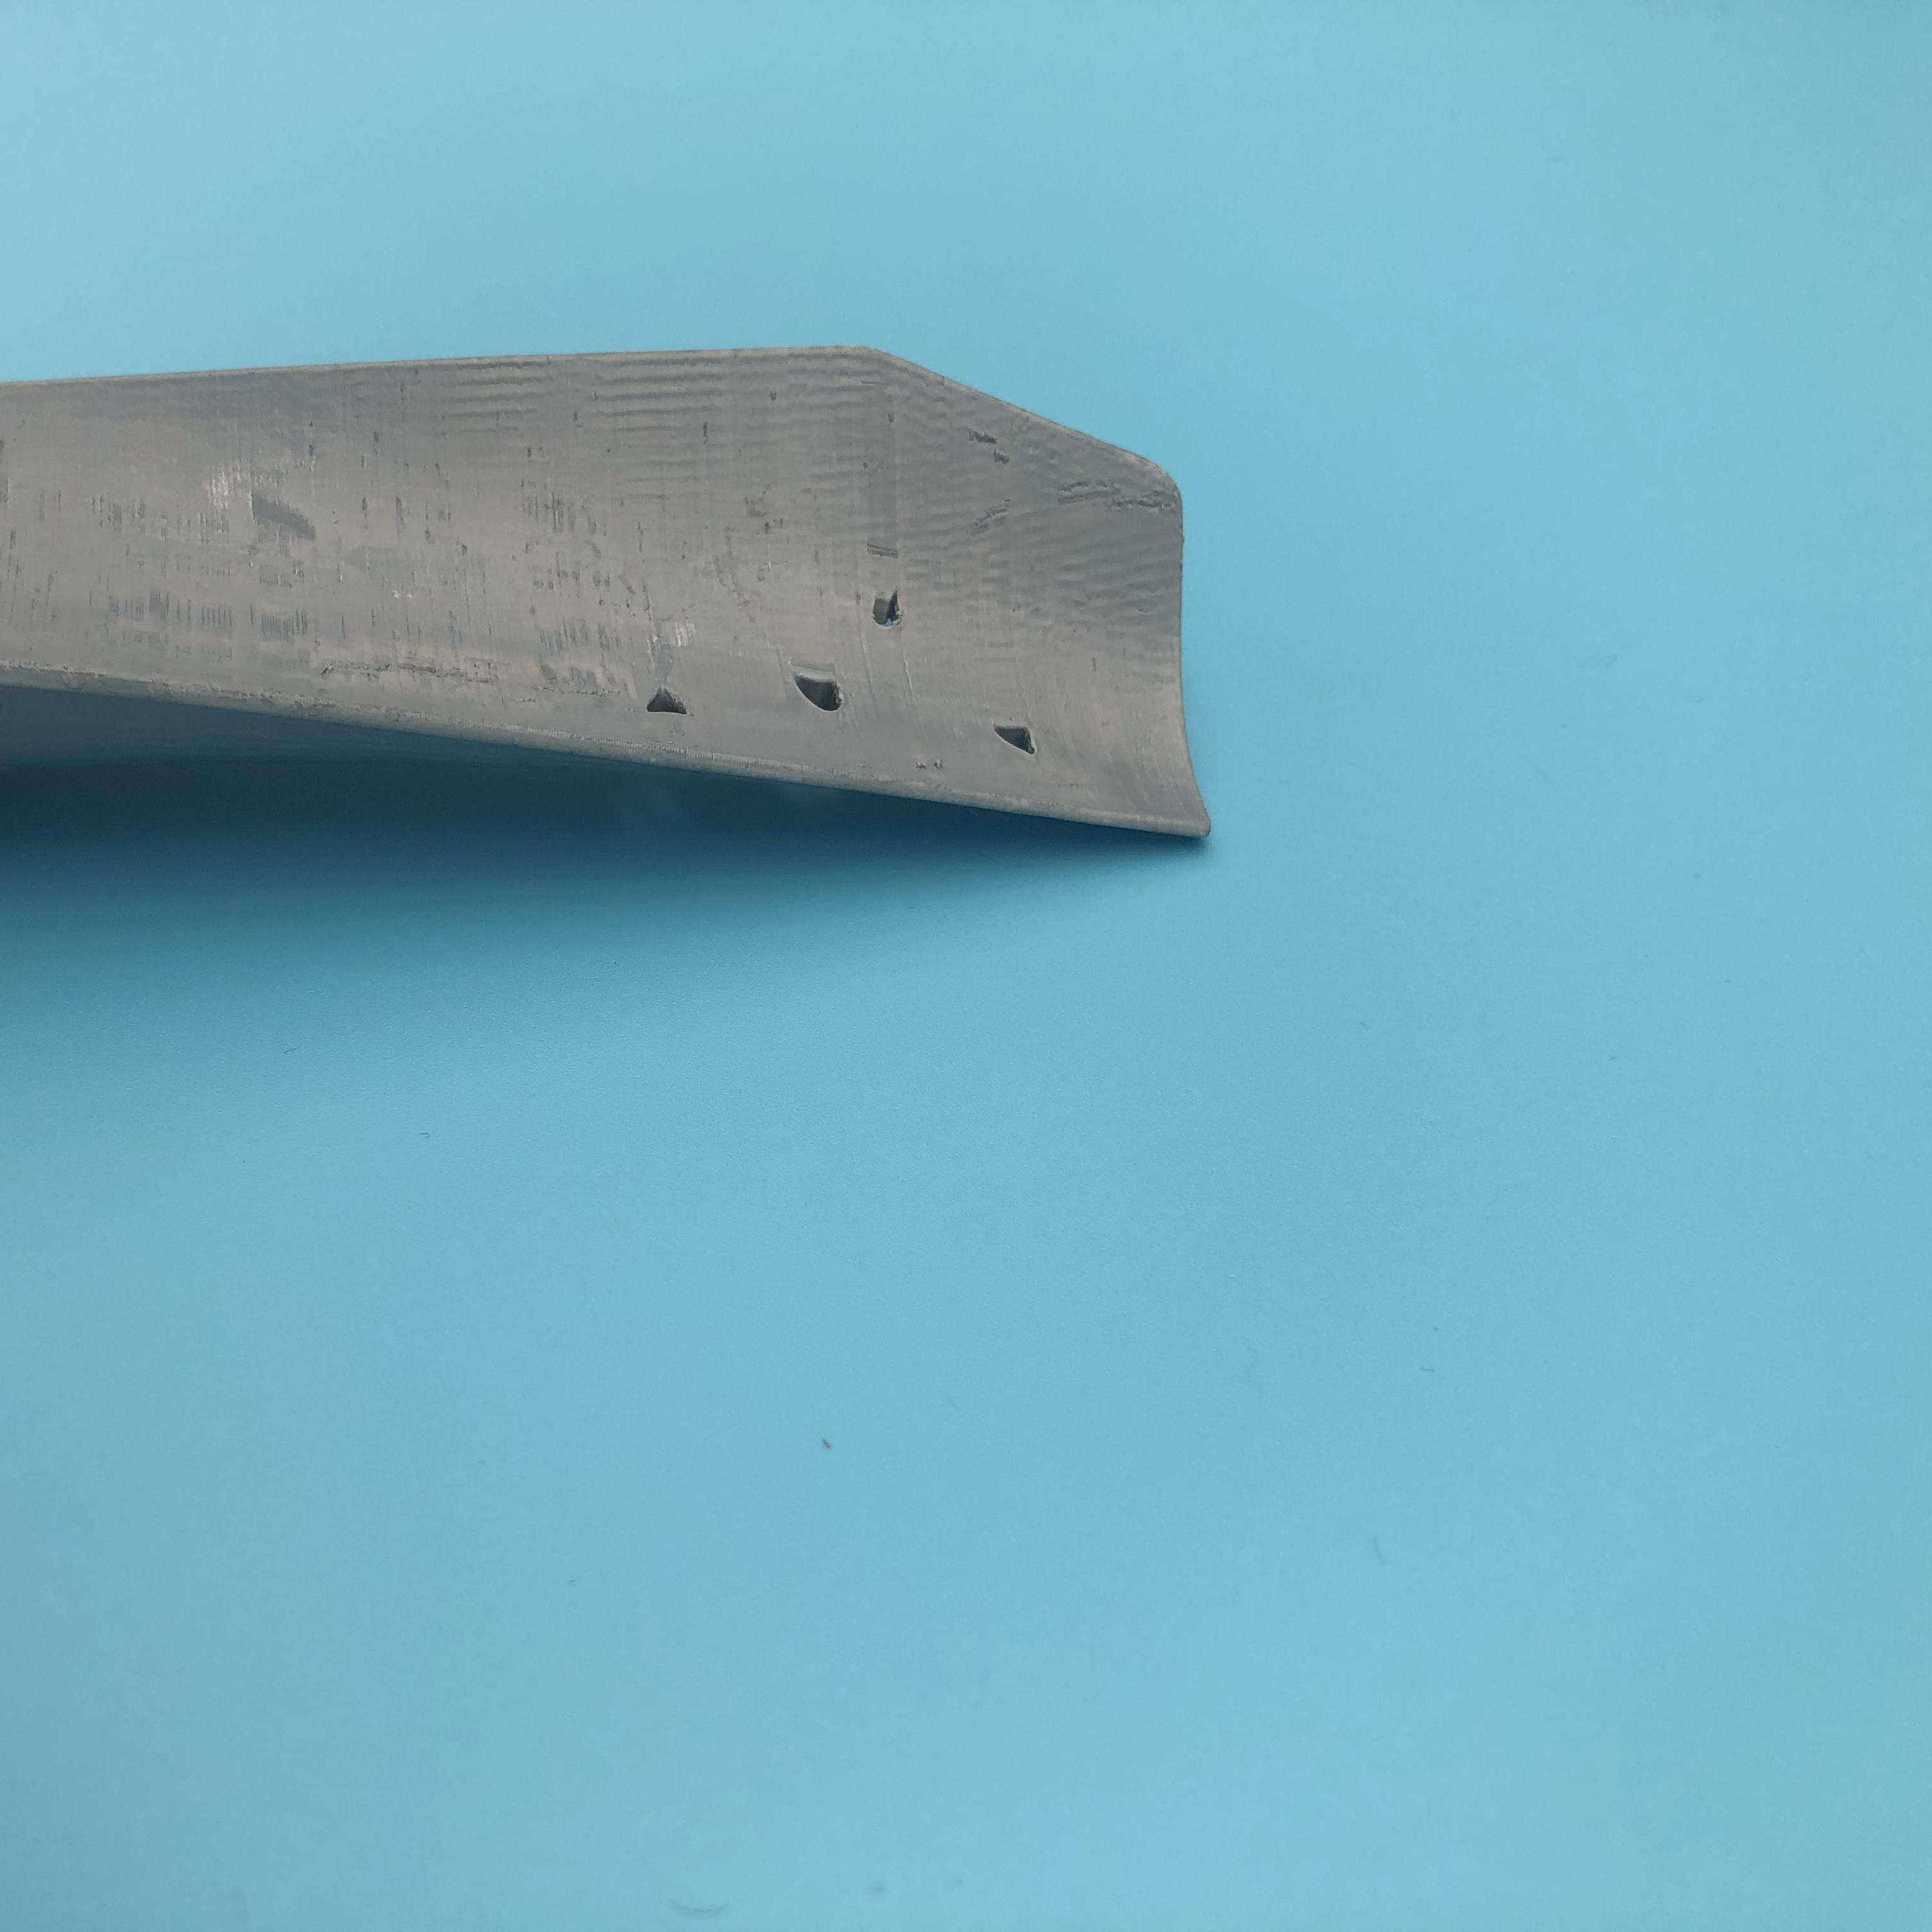breakdown: (667, 589, 1056, 786)
